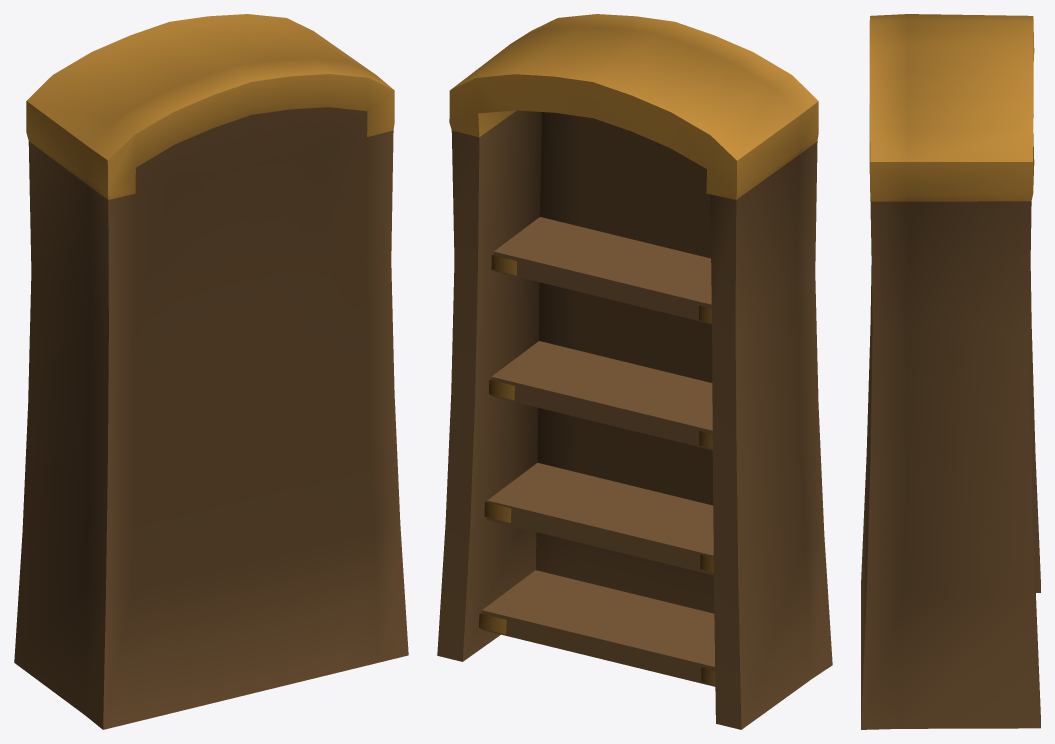
The model's file is obj_closetSmall_LOW.FBX.
The picture shows the model from 3 angles, left to right: view 1: azimuth 30°, elevation 25°; view 2: azimuth 150°, elevation 25°; view 3: azimuth 270°, elevation 25°; orthographic projection.
Visible parts, largest first — view 1: obj_closetSmall_LOW; view 2: obj_closetSmall_LOW; view 3: obj_closetSmall_LOW.
Boxes of the visible parts, box(x1,y1,x2,y2) form: obj_closetSmall_LOW: box(14, 14, 408, 729); obj_closetSmall_LOW: box(437, 14, 832, 729); obj_closetSmall_LOW: box(861, 14, 1040, 729).
Size of the model in its own units: 2.7 by 5.14 by 1.38.
